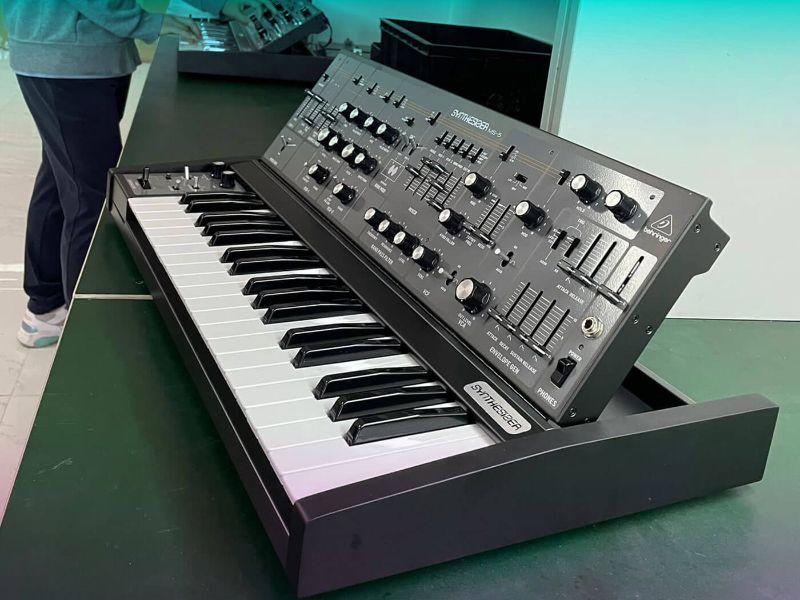synthesizer: (101, 44, 772, 527)
